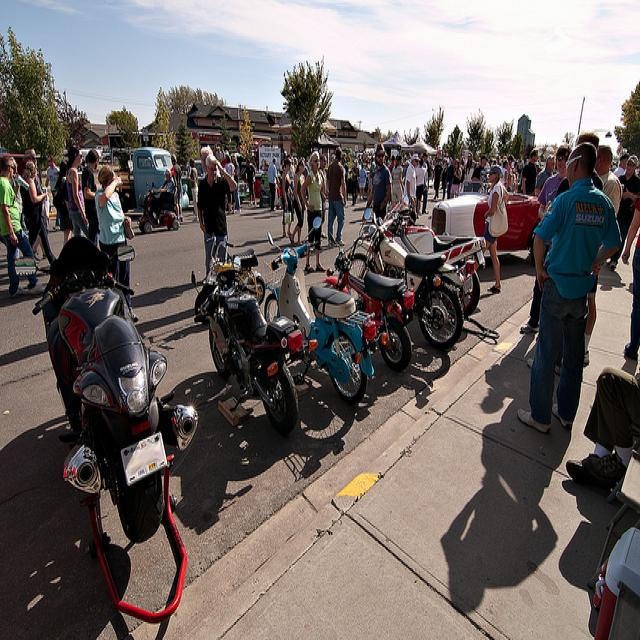motor: (36, 212, 200, 544), (190, 231, 305, 435), (264, 216, 380, 401), (324, 206, 415, 374), (356, 220, 466, 351), (380, 194, 488, 315)
